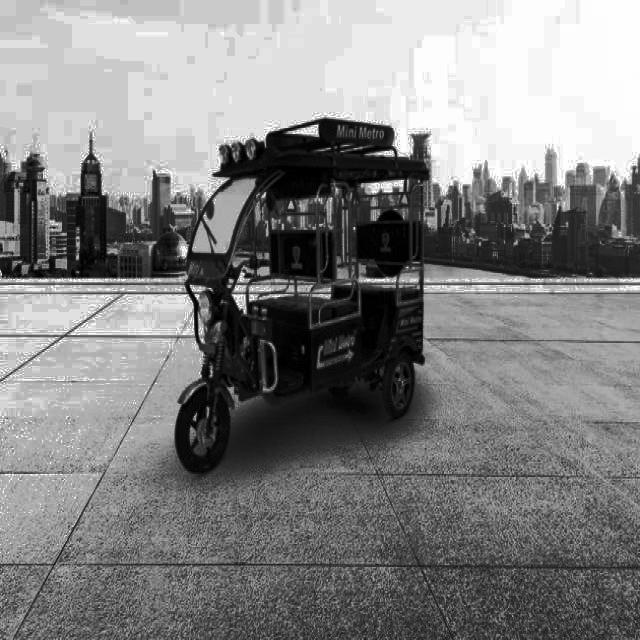Toto: (170, 140, 435, 488)
